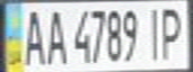4: (69, 4, 90, 64)
7: (87, 6, 106, 62)
8: (103, 6, 127, 63)
9: (121, 5, 145, 62)
A: (18, 5, 48, 66), (42, 4, 69, 65)
I: (142, 3, 166, 61)
P: (157, 2, 190, 61)
